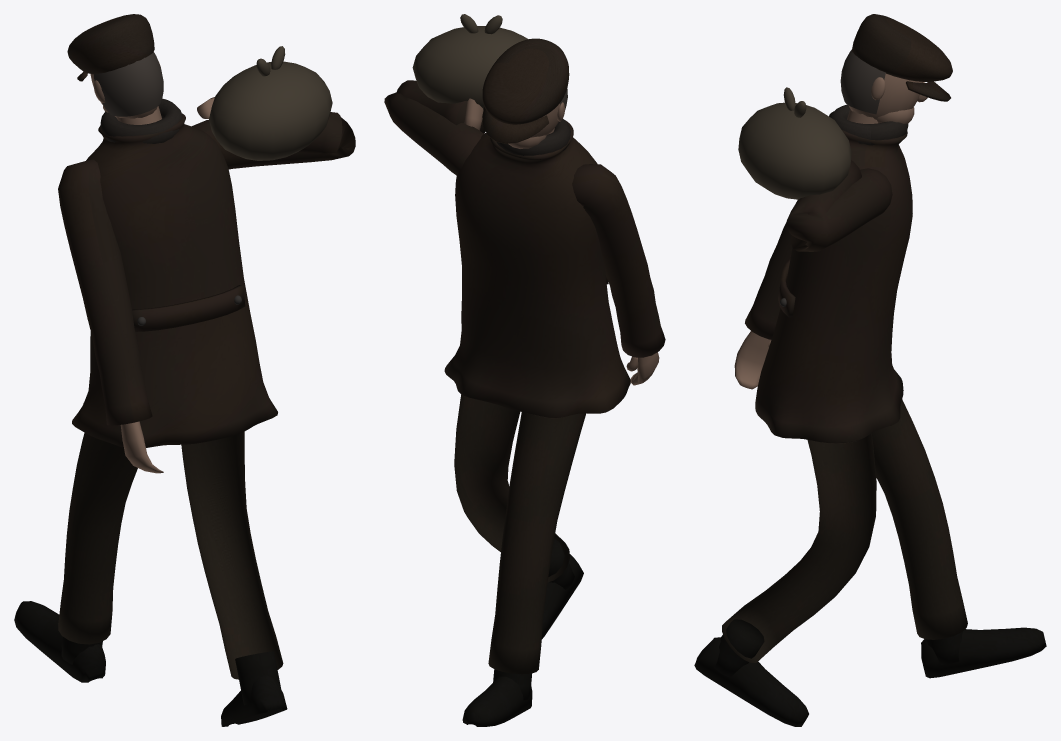
Rendered from walker-man-bundle.glb.
The picture shows the model from 3 angles, left to right: view 1: azimuth 30°, elevation 25°; view 2: azimuth 150°, elevation 25°; view 3: azimuth 270°, elevation 25°; orthographic projection. The views are drawn at different scales.
Parts seen in each view (by area): view 1: walker-man-bundle-body; view 2: walker-man-bundle-body; view 3: walker-man-bundle-body.
Boxes of the visible parts, <box> form: walker-man-bundle-body: <box>14,14,355,726</box>; walker-man-bundle-body: <box>384,14,665,726</box>; walker-man-bundle-body: <box>694,14,1046,726</box>.
Size of the model in its own units: 0.7026 by 1.73 by 0.8191.
Materials: 9 (6 with a texture image).
